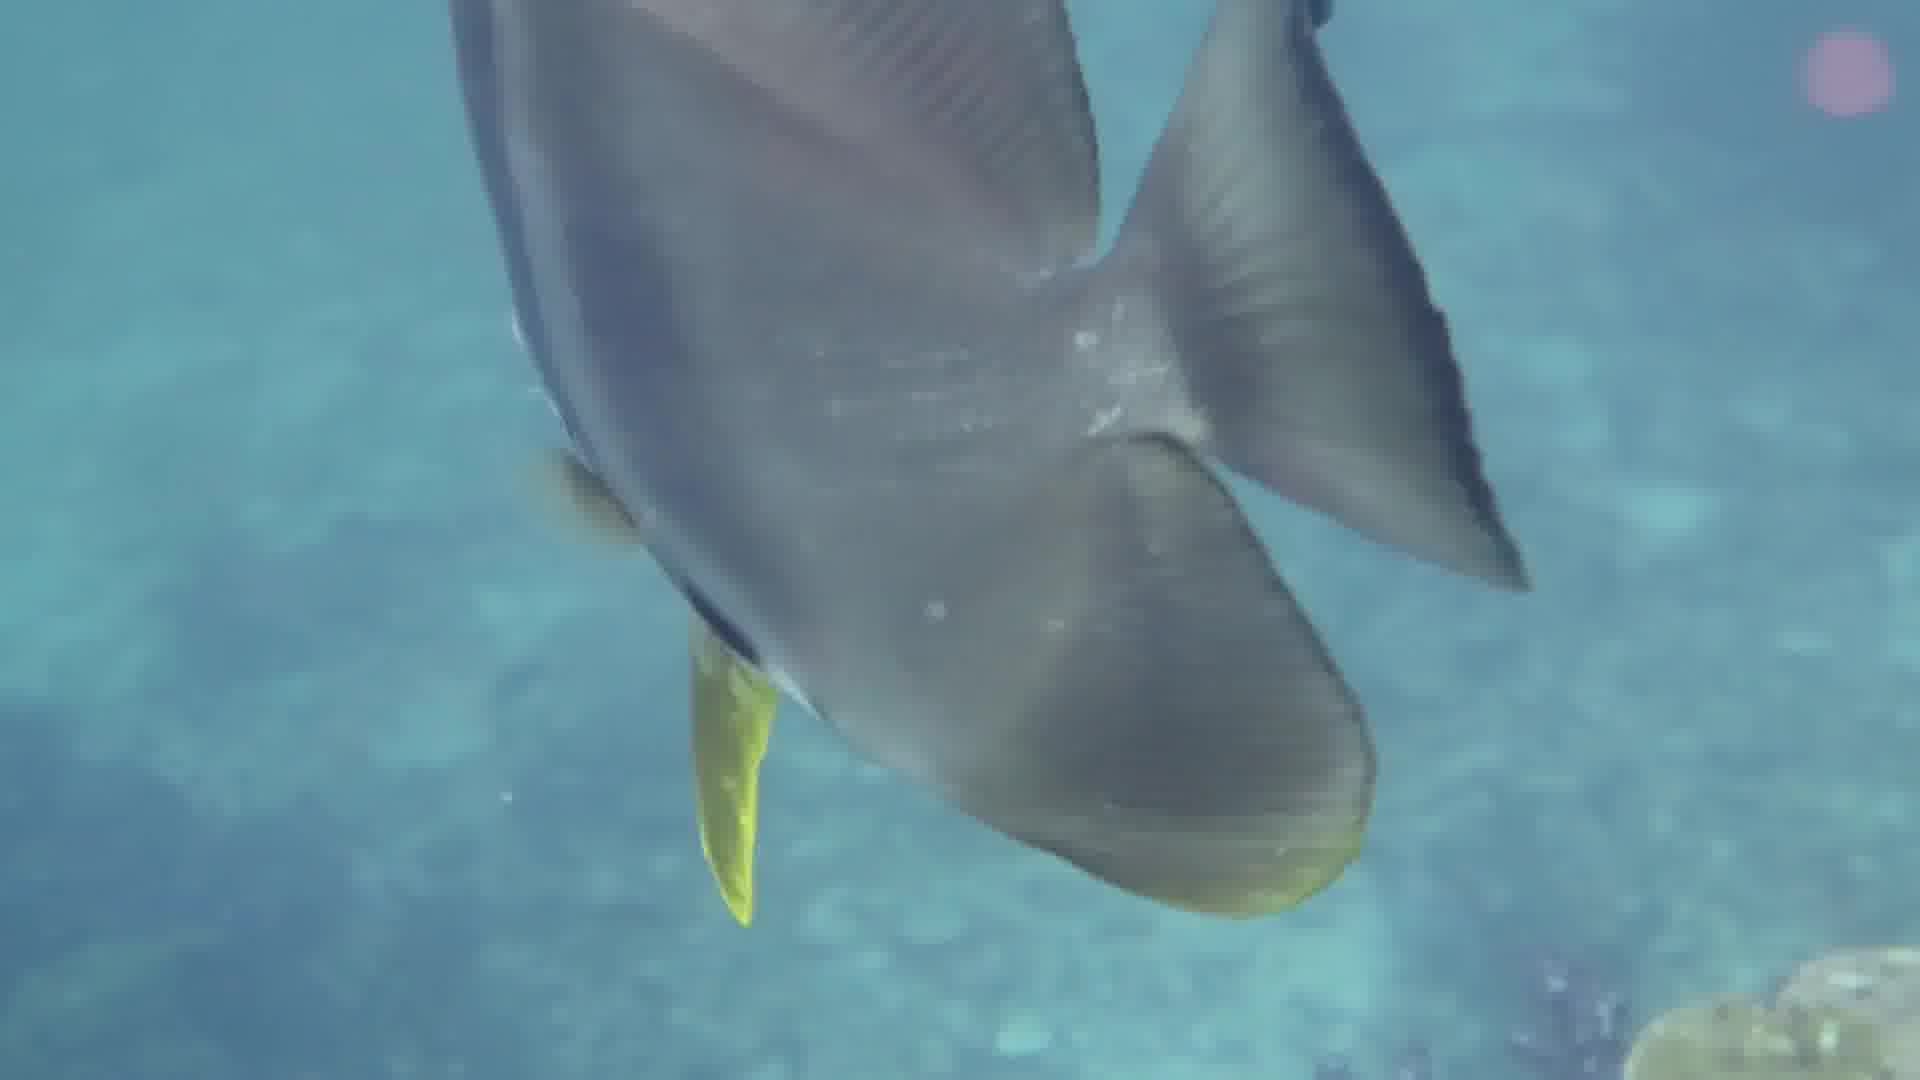Platax teira: (413, 1, 1571, 978)
